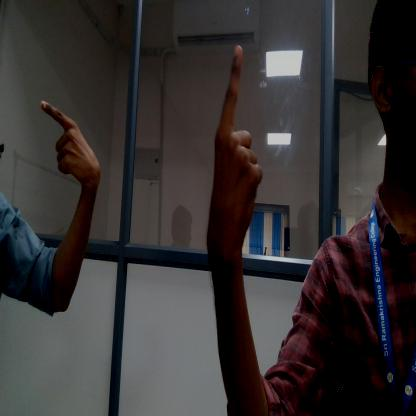Right: (36, 76, 104, 201)
Up: (217, 41, 258, 254)
